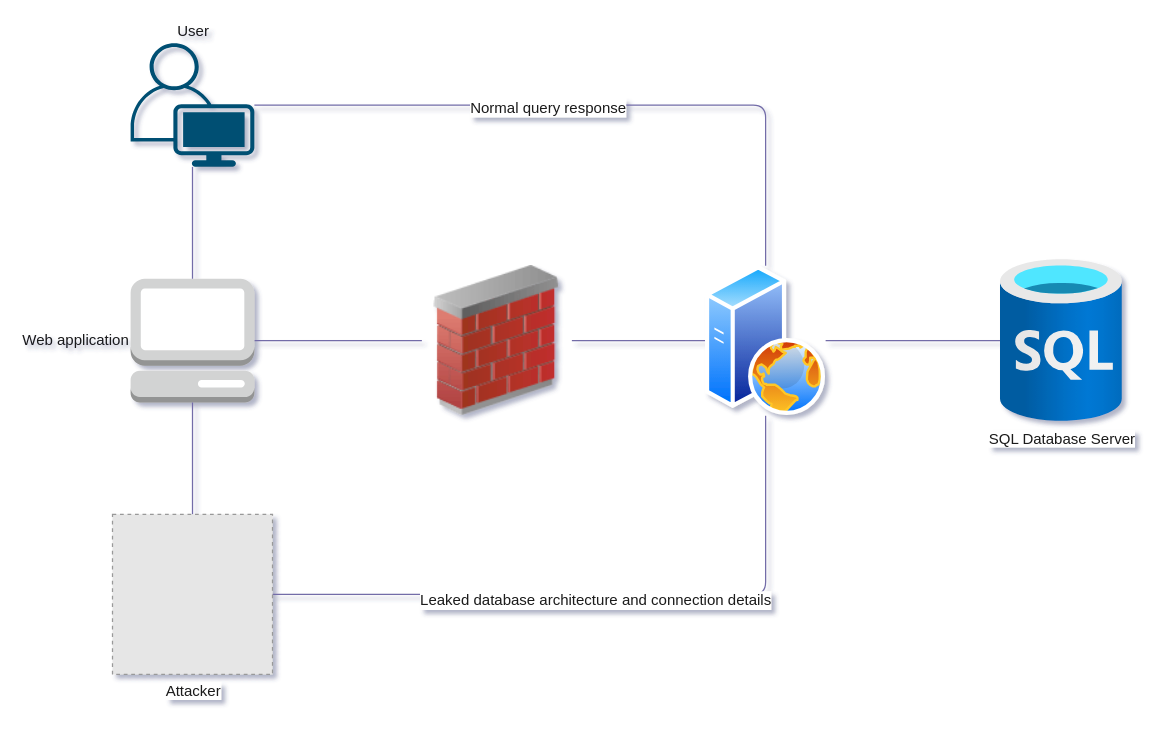
This 1164x729 diagram has some shape labels left out. Grey dashed boxes stand in for pictures. Each missing label, with the centre of its shape:
"Firewall" goes at point (496, 340).
"Web Application Server" goes at point (765, 340).
